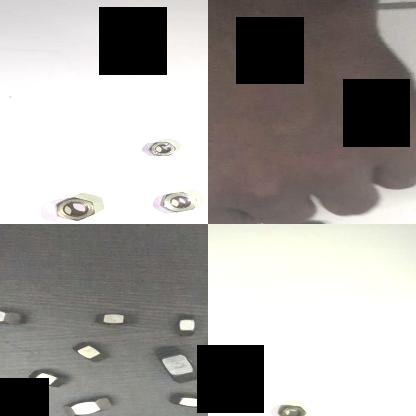Bolts: (254, 219, 335, 224)
NUTS: (147, 343, 199, 385), (59, 388, 114, 416), (50, 195, 98, 223), (22, 363, 72, 389), (157, 189, 199, 214), (71, 340, 111, 364), (165, 390, 208, 408), (170, 312, 202, 336), (94, 308, 136, 326), (0, 307, 31, 327), (270, 401, 309, 416), (146, 140, 178, 156)
